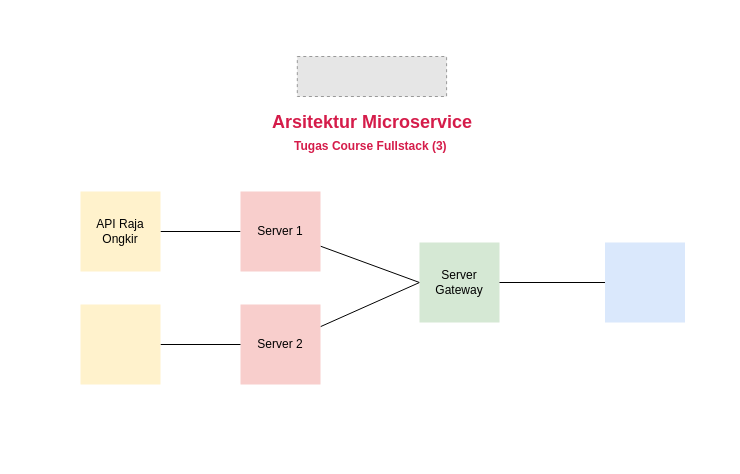
This 740x474 diagram has some shape labels left out. Grey dashed boxes stand in for pictures. The centre of each missing label's shape, as x and y in pixels:
"Local Database" belongs at point 120,344.
"Public Internet" belongs at point 644,282.
